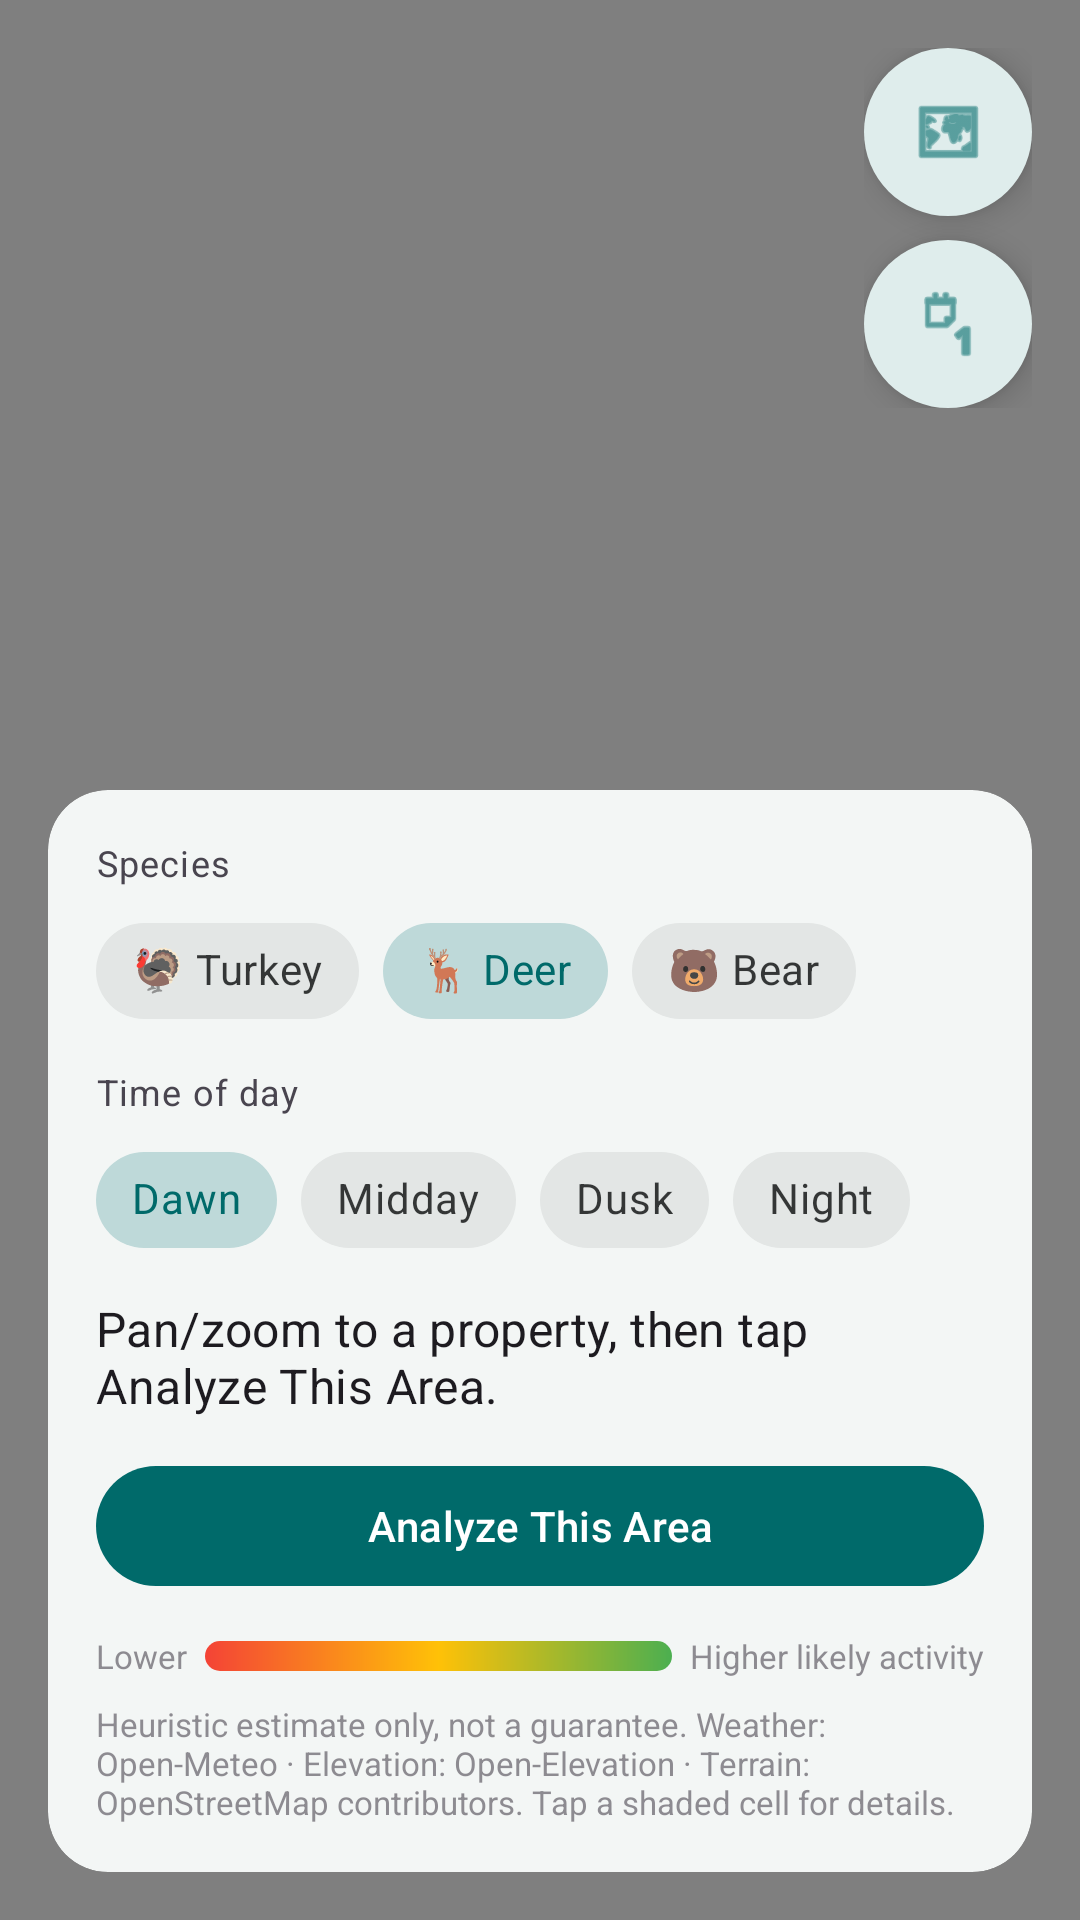

Where icons sit on this 1080*1920 app screen, as (x1, y1, x2, y2):
Toggle Satellite: (864, 48, 1032, 216)
